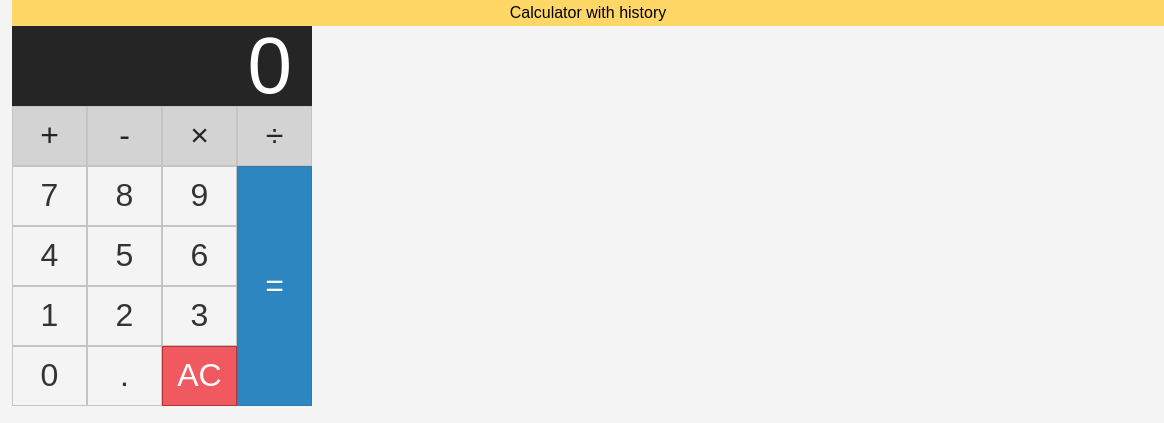
Test: Press and History Tests › Press 9+2 and equal should be 11
Step 1. Click the button "9" → (200, 196), box [162, 166, 237, 226]
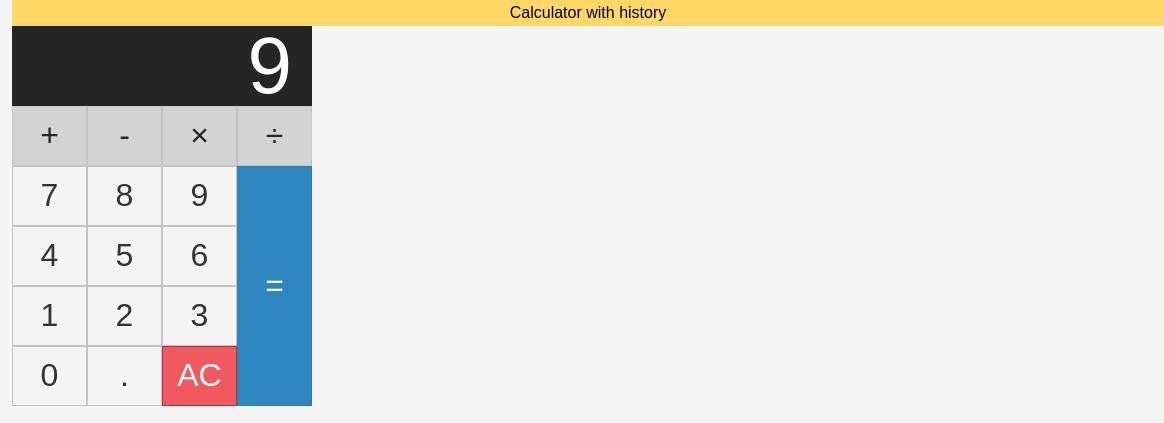
Step 2. Click the button "+" → (50, 136), box [12, 106, 87, 166]
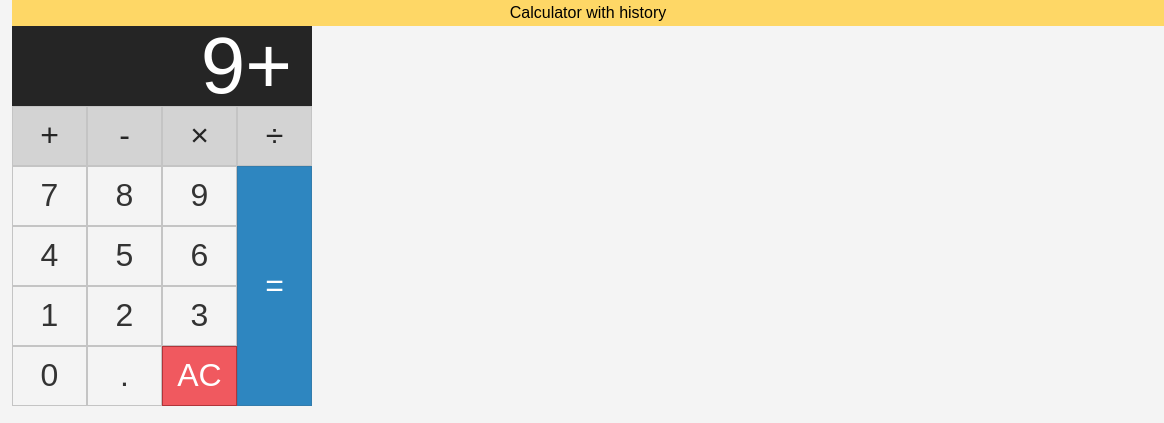
Step 3. Click the button "2" → (124, 316), box [87, 286, 162, 346]
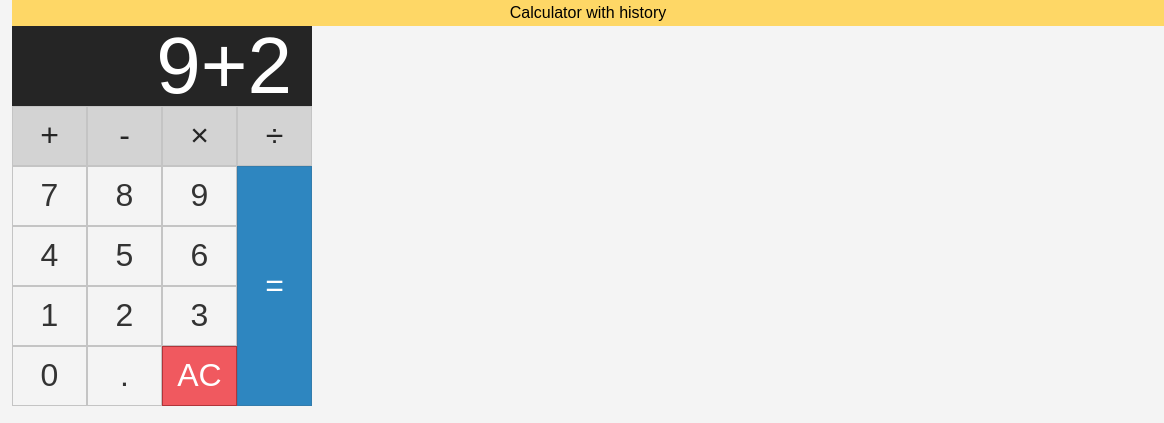
Step 4. Click the button "=" → (274, 286), box [237, 166, 312, 406]
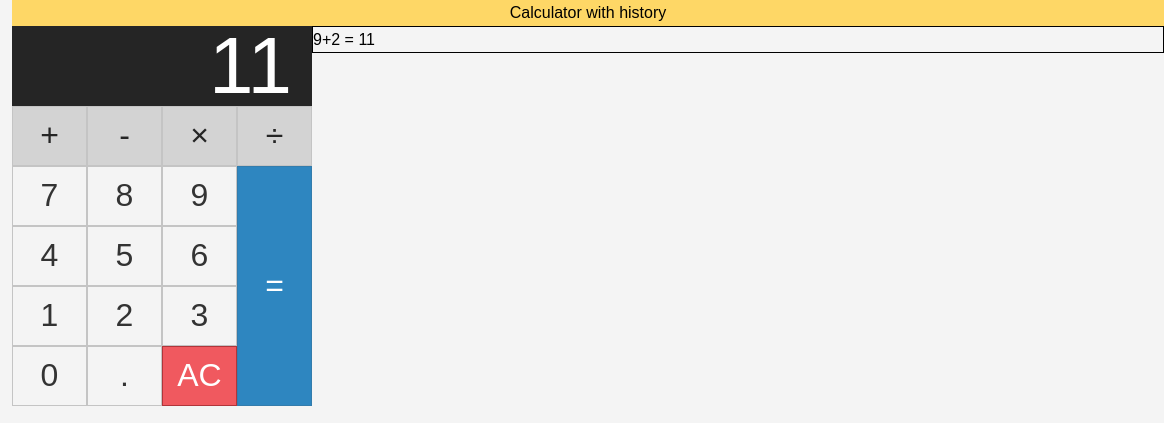
Check: the field with id "calcScreen" holds "11", box [12, 26, 312, 106]
